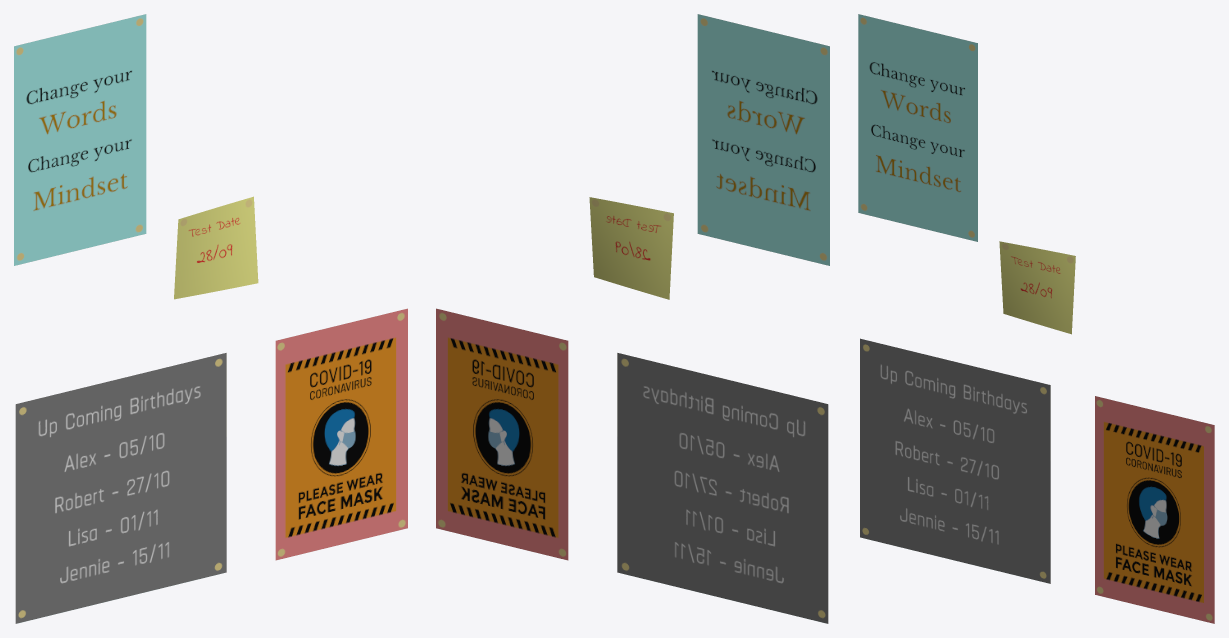
Rendered from Papers.fbx.
3 views of the same model, side by side, from view 1: azimuth 30°, elevation 25°; view 2: azimuth 150°, elevation 25°; view 3: azimuth 330°, elevation 25° (orthographic). The views are drawn at different scales.
Parts seen in each view (by area): view 1: Paper4, Paper2, Paper3, Paper1; view 2: Paper4, Paper2, Paper3, Paper1; view 3: Paper4, Paper2, Paper3, Paper1.
Boxes of the visible parts, left/top/right/bottom form: Paper4: left=15, top=353, right=226, bottom=623; Paper2: left=14, top=14, right=146, bottom=265; Paper3: left=275, top=308, right=407, bottom=560; Paper1: left=174, top=196, right=258, bottom=299; Paper4: left=617, top=353, right=828, bottom=623; Paper2: left=697, top=14, right=829, bottom=265; Paper3: left=436, top=308, right=568, bottom=560; Paper1: left=589, top=197, right=673, bottom=299; Paper4: left=860, top=338, right=1050, bottom=583; Paper2: left=858, top=14, right=977, bottom=241; Paper3: left=1095, top=396, right=1214, bottom=623; Paper1: left=999, top=241, right=1075, bottom=334.
Size of the model in its own units: 70.31 by 98.61 by 1.38.
1 material, 1 textured.
